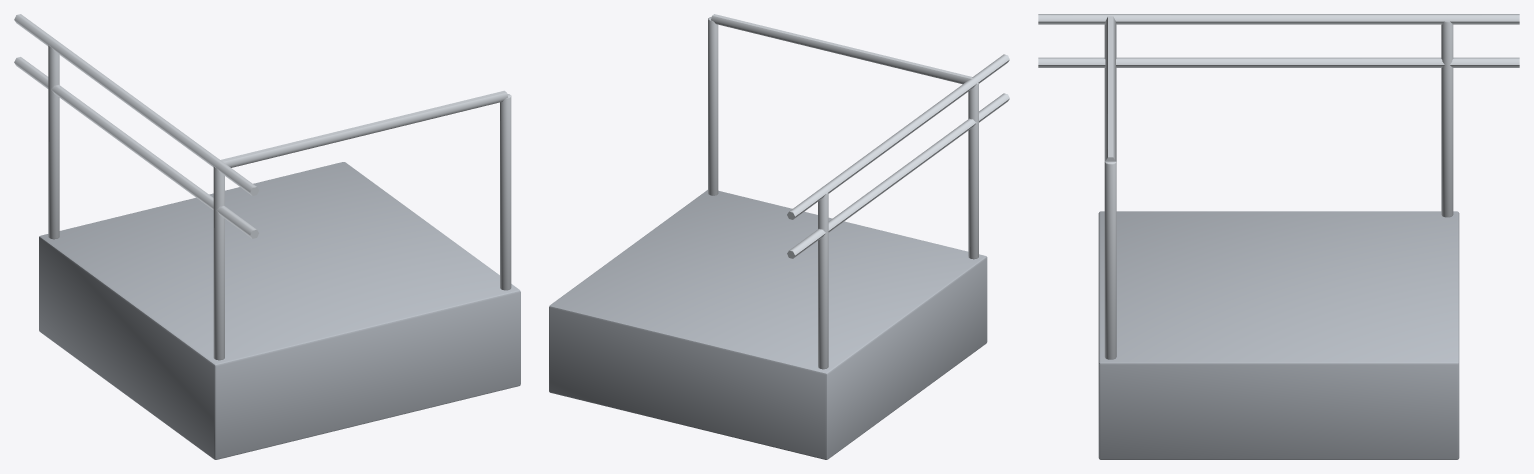
Rendered from patamar_h45.glb.
3 renders of one model, left to right at view 1: azimuth 30°, elevation 25°; view 2: azimuth 150°, elevation 25°; view 3: azimuth 270°, elevation 25°, orthographic. The views are drawn at different scales.
Visible parts, largest first — view 1: patamar_h45; view 2: patamar_h45; view 3: patamar_h45.
Part boxes in pixels (x1=…): patamar_h45: x1=14, y1=14, x2=520, y2=459; patamar_h45: x1=549, y1=14, x2=1009, y2=459; patamar_h45: x1=1038, y1=14, x2=1519, y2=459.
Bounding box in the file's own units: 1.5 × 1.37 × 2.
1 material, 1 textured.
